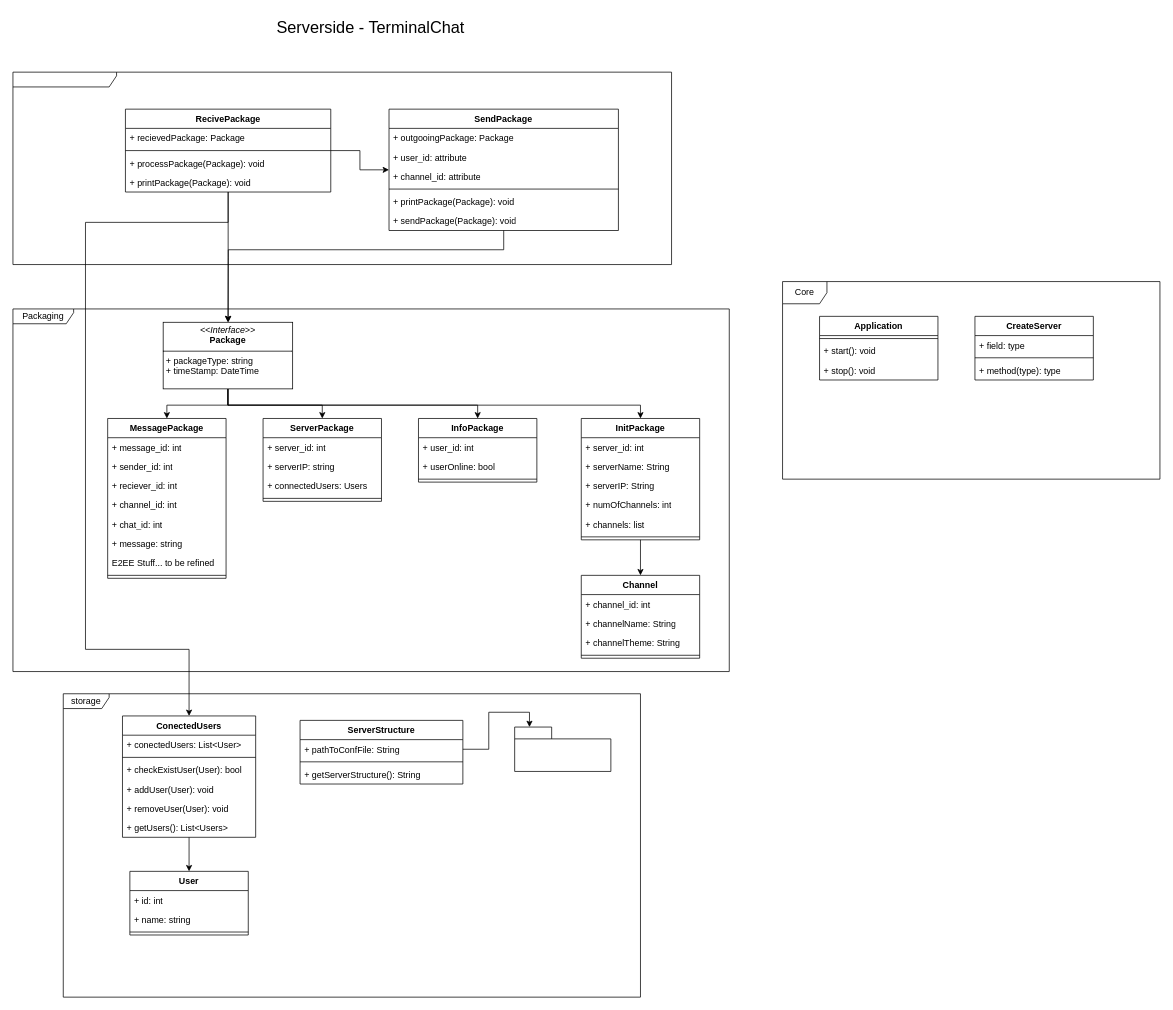
Some shapes in this 1173 by 1010 pixel diagram are drawn without their labels. The shapes that lost their labels are listed below. From the top down, each one's centre as x and y in pixels, then its label:
At (342,168): "Package handling".
At (562,748): "Server config file formatted in JSON".
